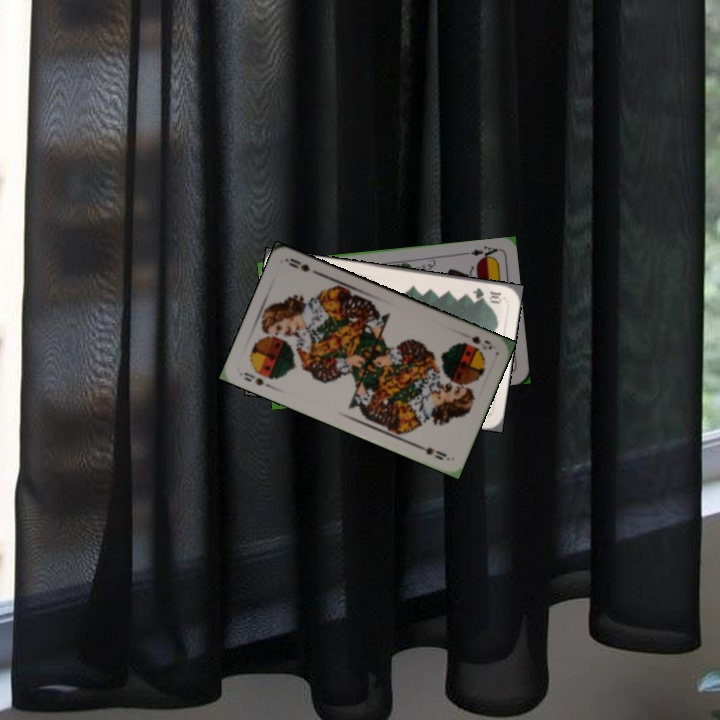EA: (460, 242, 500, 262)
G10: (469, 284, 504, 305)
SO: (240, 368, 275, 391), (467, 332, 495, 352)
